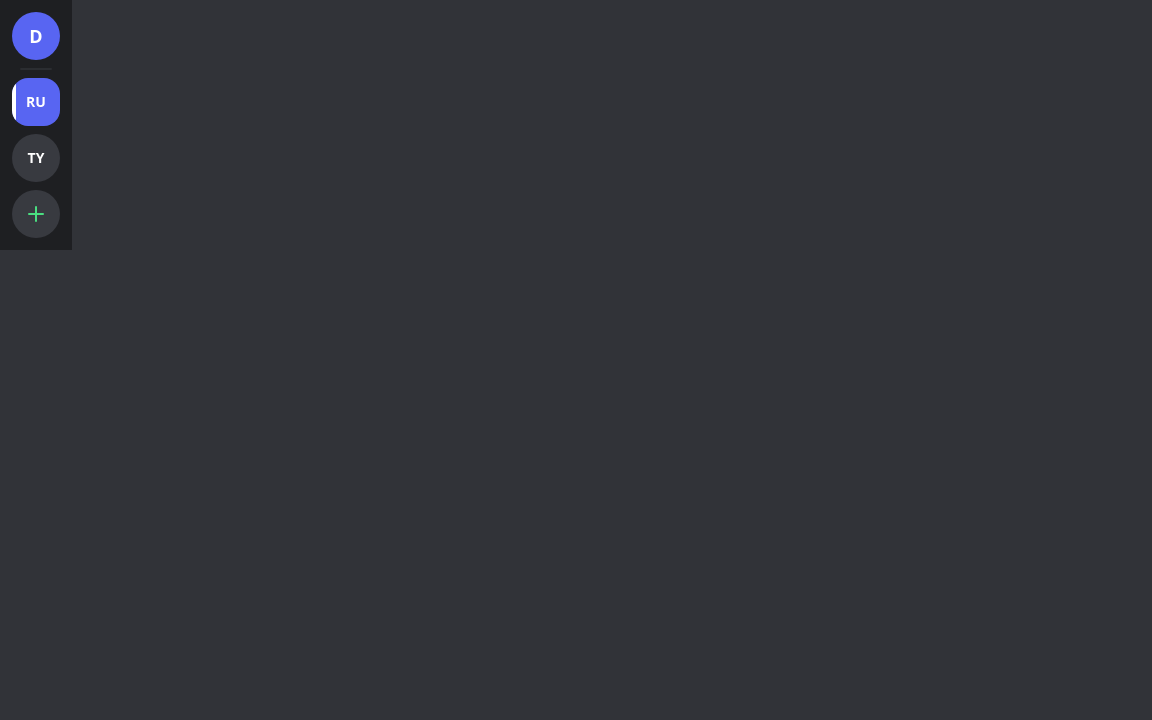
it: ServerSidebar › opens create server dialog when Add button clicked
Click the button named "add a server".
click(36, 214)  # box [12,190,60,238]
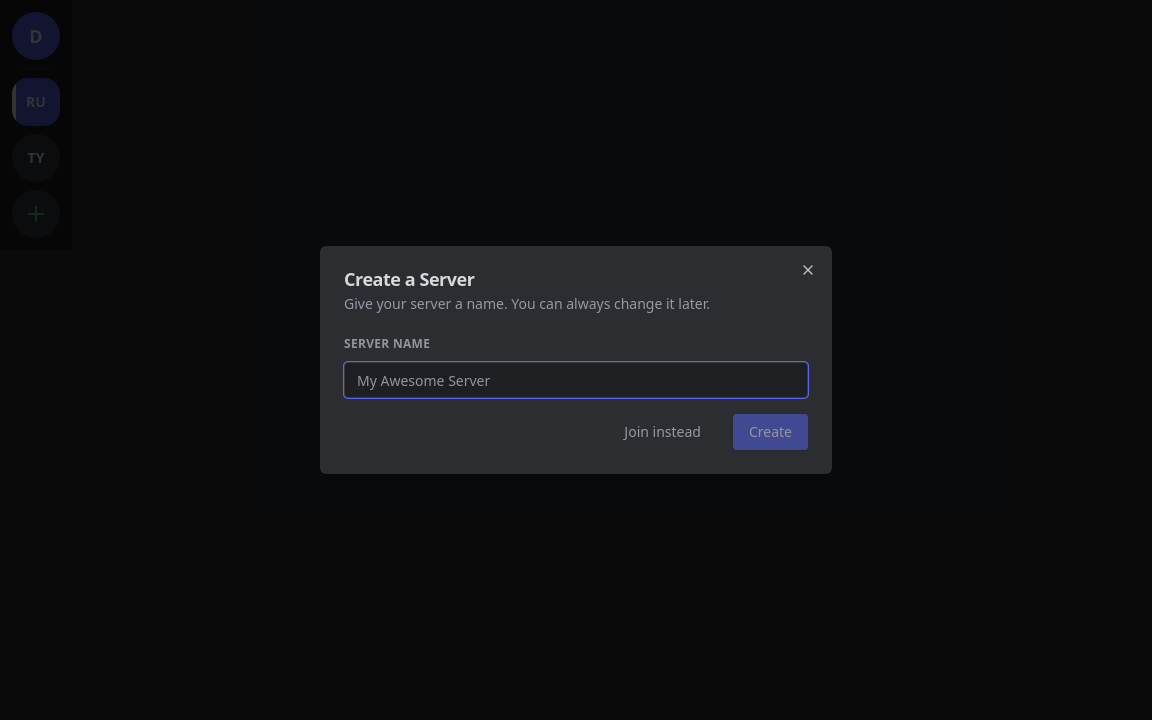
Check: the dialog is shown, box [320,246,832,474]
Check: the field labelled "Server Name" is shown, box [344,362,808,398]
